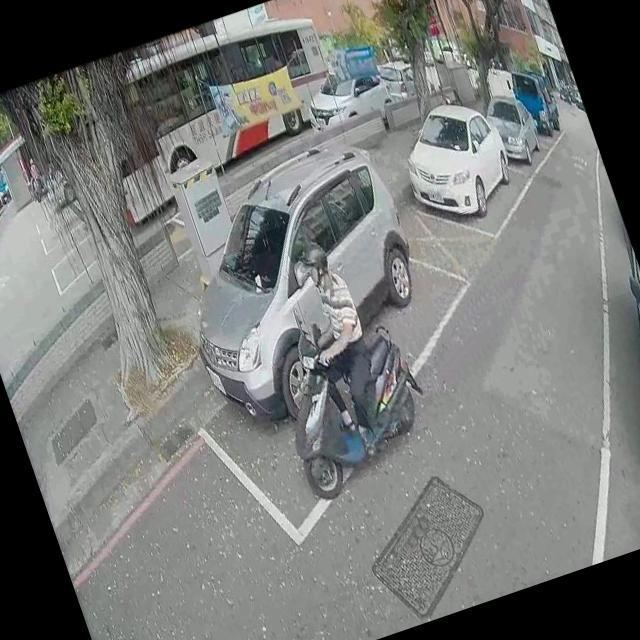person: (262, 220, 408, 477), (22, 152, 47, 198)
